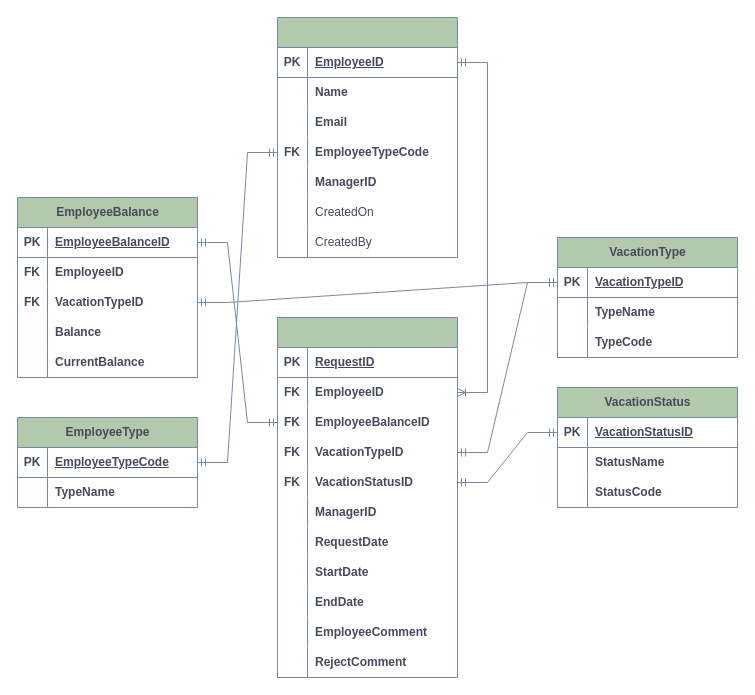
Image size: 755x695. Some labels were removed from this diagram. Here are the shapes that lost their labels. From the top down, the box of each, then its label:
(276, 16, 458, 258): Emplyee
(276, 316, 458, 678): VacationRequest
